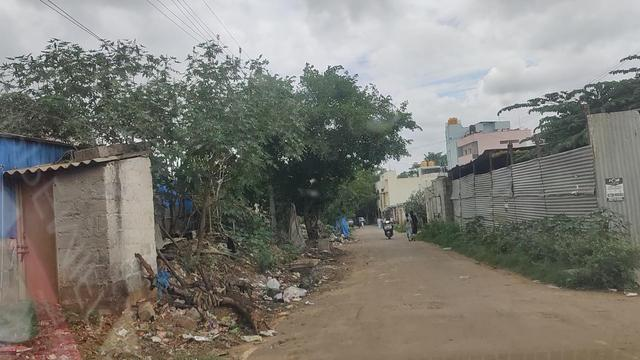RoadDamages: (402, 299, 453, 322)
